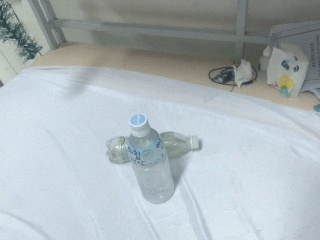bottle: (106, 113, 186, 205), (107, 115, 202, 168), (158, 130, 202, 159)
box: (265, 20, 314, 98)
